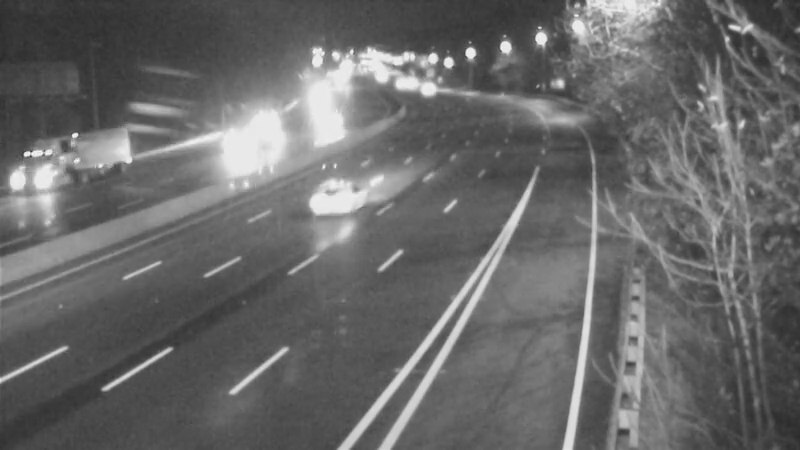vehicle: (292, 157, 372, 237), (4, 133, 84, 213), (191, 114, 271, 194), (401, 62, 451, 112)
